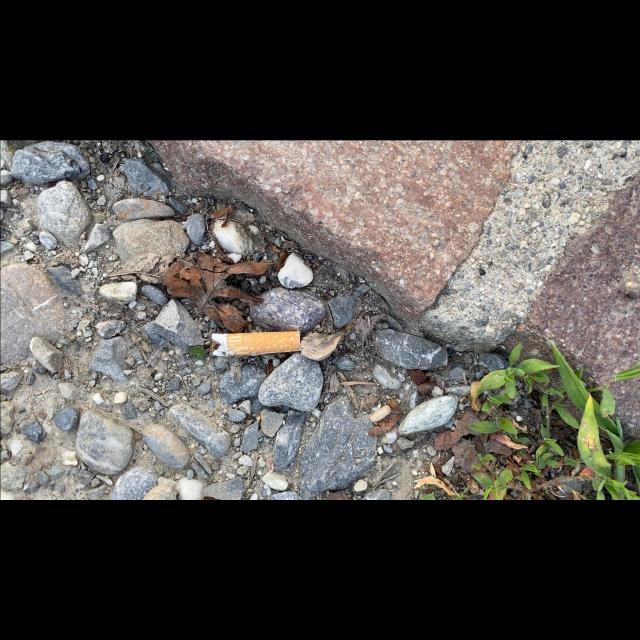cigarette: (209, 329, 302, 357)
